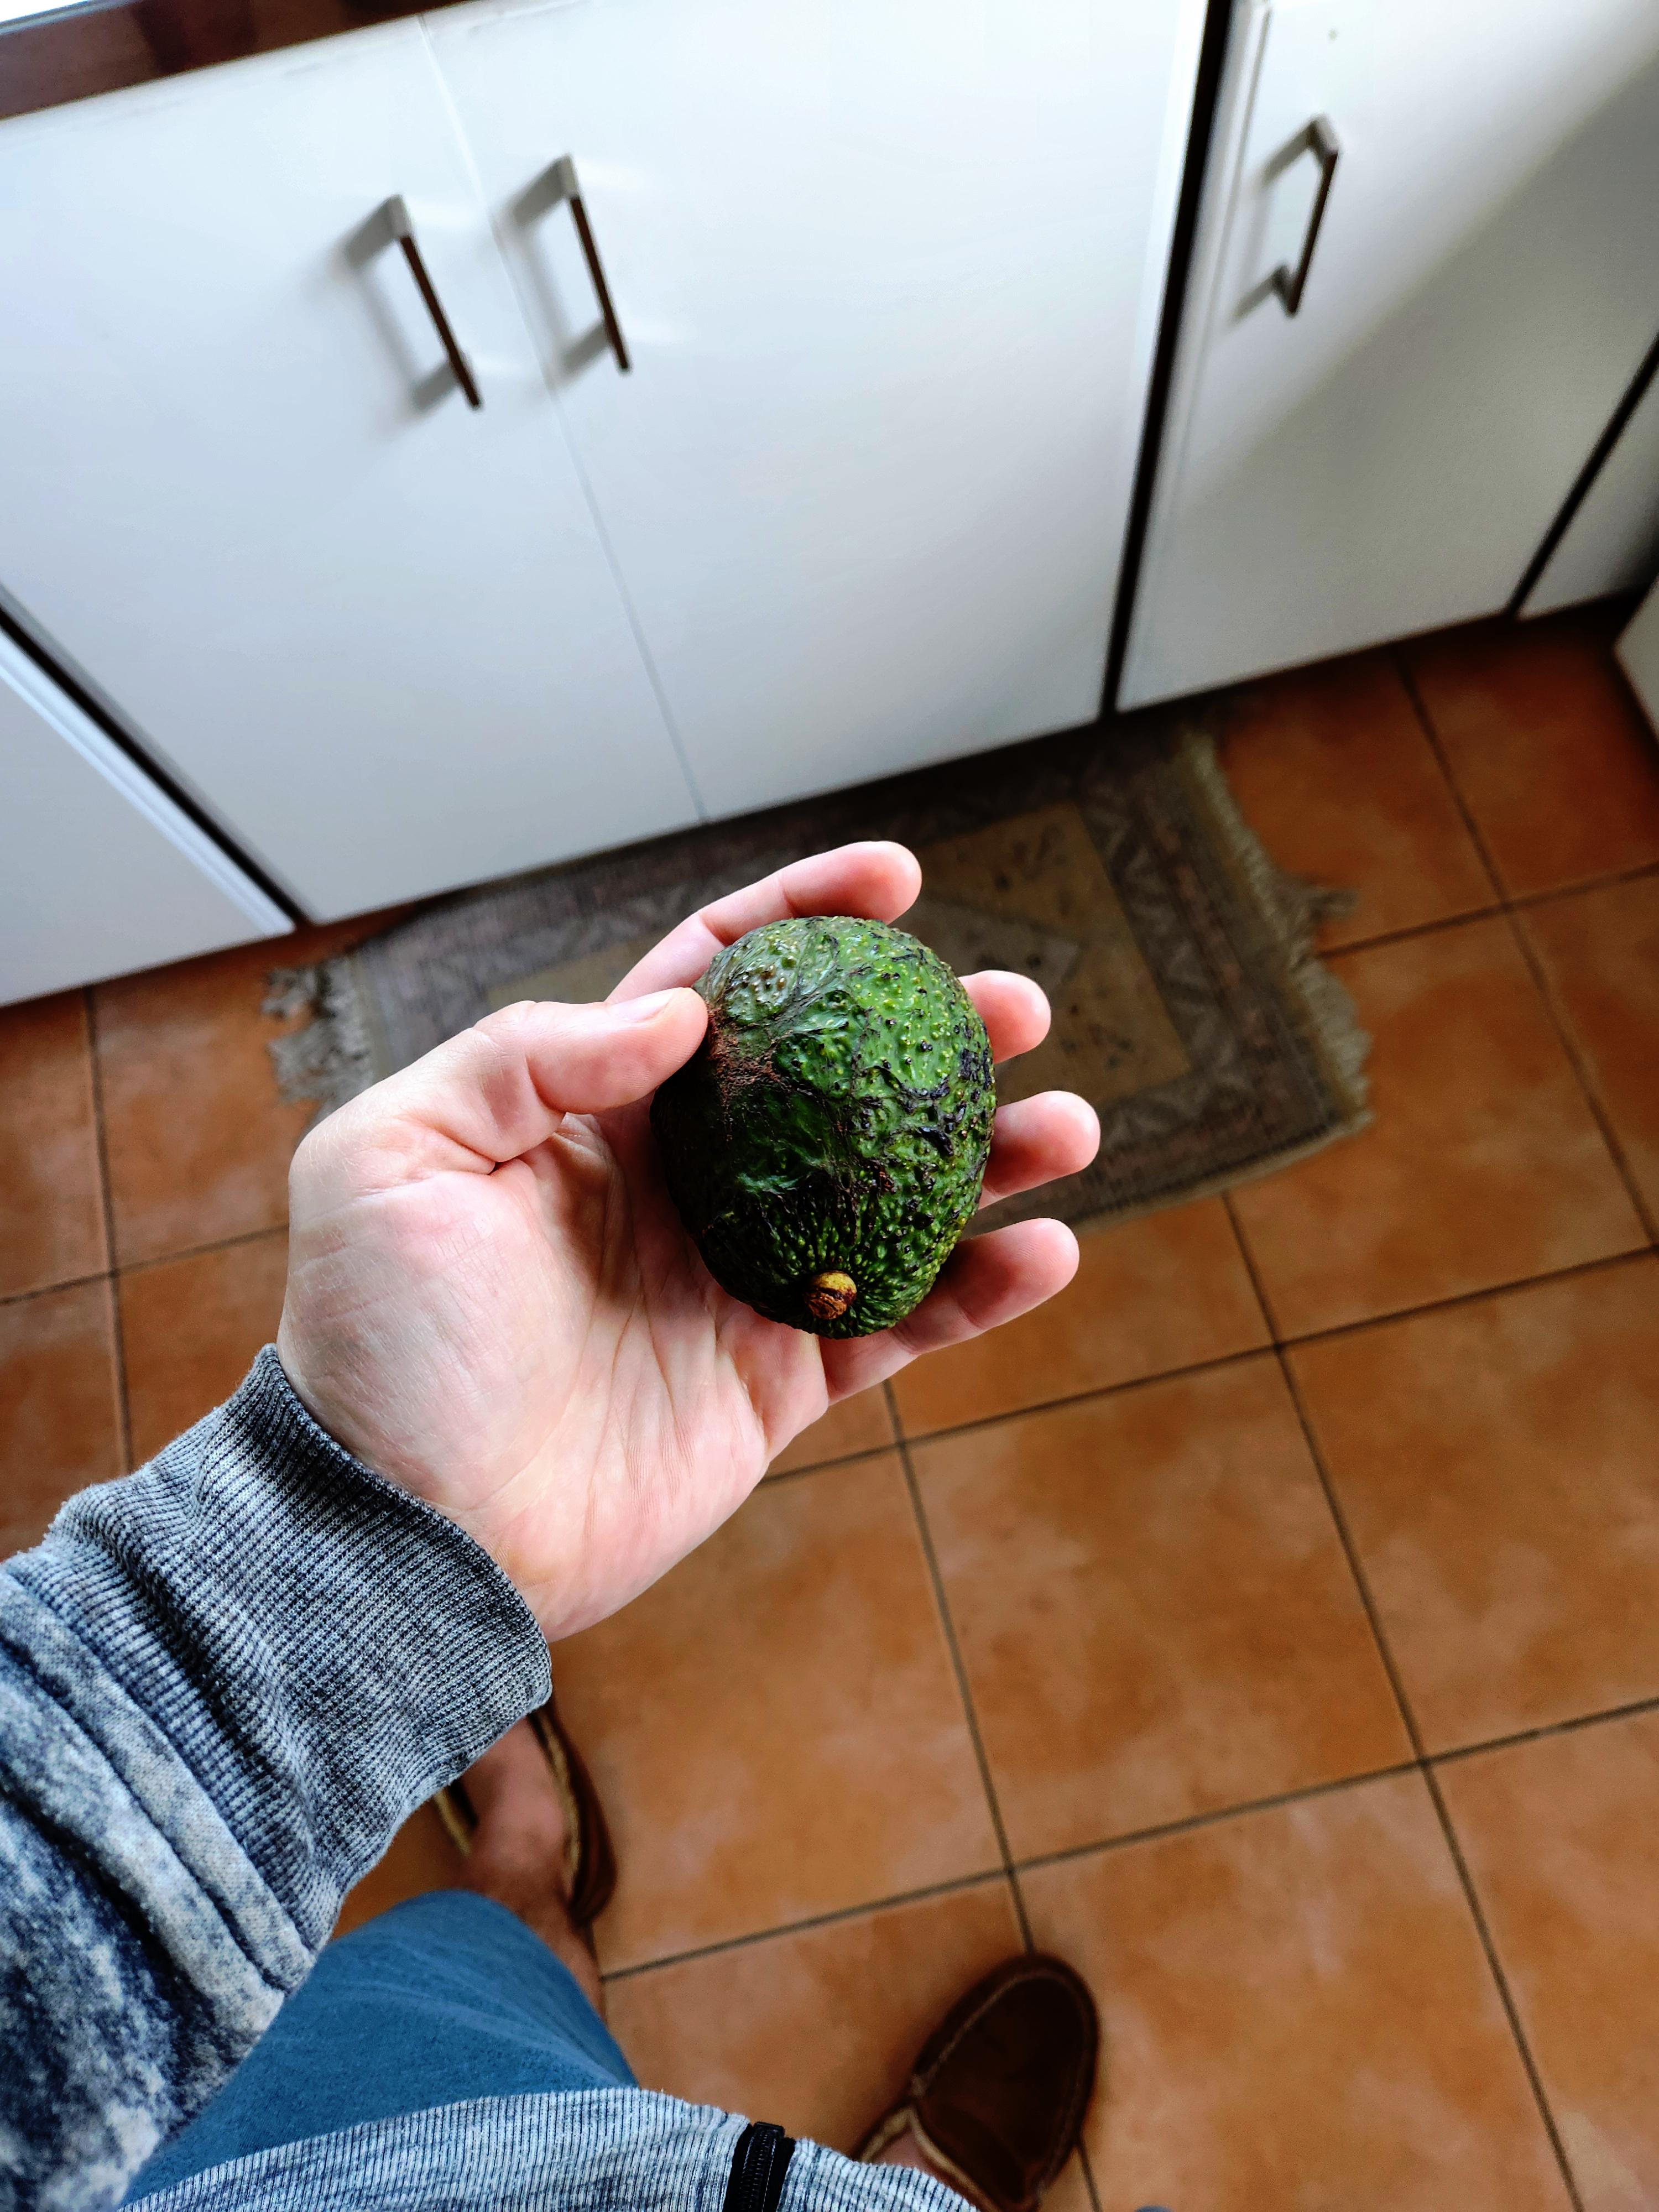avocado: (481, 1216, 748, 1777)
